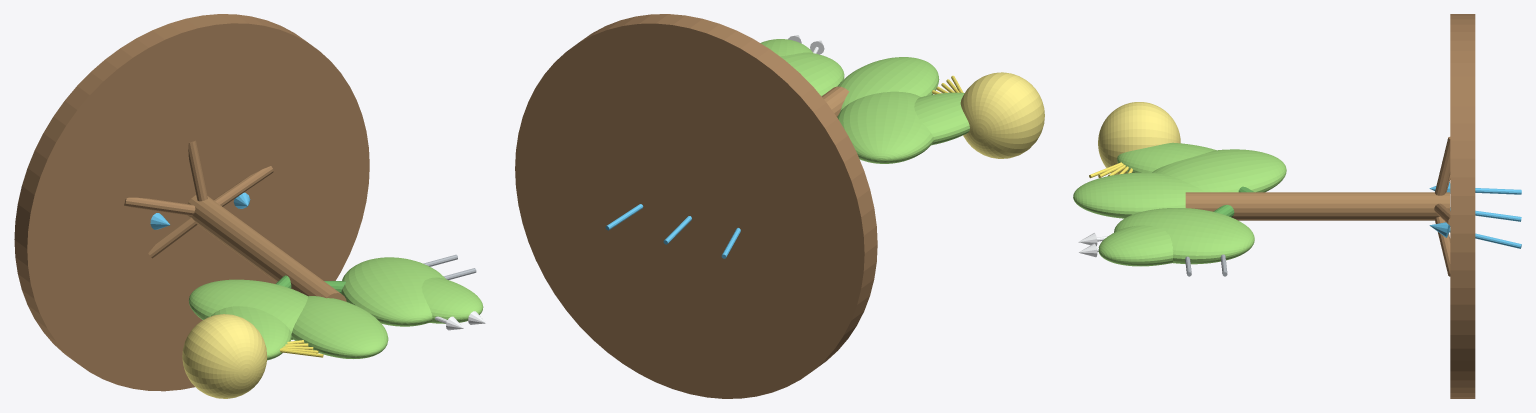
The model's file is photosynthesis_tree_3d.glb.
The picture shows the model from 3 angles, left to right: view 1: azimuth 30°, elevation 25°; view 2: azimuth 150°, elevation 25°; view 3: azimuth 270°, elevation 25°; orthographic projection. The views are drawn at different scales.
Visible parts, largest first — view 1: Soil ground, Sun, Leaf 2, Main trunk, Leaf 4, Leaf 1, Leaf 3, Leaf 0, Root 0, Root 1, Root 4, Root 2; view 2: Soil ground, Sun, Leaf 1, Leaf 4, Leaf 0, Leaf 2, Leaf 3, Main trunk; view 3: Soil ground, Main trunk, Leaf 2, Leaf 4, Leaf 1, Sun, Leaf 3, Leaf 0, Root 4.
Boxes of the visible parts, <box> form: Soil ground: <box>14,14,369,391</box>; Sun: <box>182,314,267,398</box>; Leaf 2: <box>341,257,445,326</box>; Main trunk: <box>187,195,346,301</box>; Leaf 4: <box>291,296,388,358</box>; Leaf 1: <box>188,279,307,339</box>; Leaf 3: <box>421,277,483,323</box>; Leaf 0: <box>211,306,291,360</box>; Root 0: <box>124,197,195,215</box>; Root 1: <box>213,166,273,206</box>; Root 4: <box>188,140,207,201</box>; Root 2: <box>148,217,197,258</box>; Soil ground: <box>515,14,877,398</box>; Sun: <box>960,72,1044,158</box>; Leaf 1: <box>837,91,933,163</box>; Leaf 4: <box>837,57,939,111</box>; Leaf 0: <box>914,92,969,145</box>; Leaf 2: <box>780,52,844,96</box>; Leaf 3: <box>760,39,812,56</box>; Main trunk: <box>821,86,849,116</box>; Soil ground: <box>1450,14,1475,398</box>; Main trunk: <box>1185,192,1449,220</box>; Leaf 2: <box>1114,208,1254,264</box>; Leaf 4: <box>1073,172,1205,218</box>; Leaf 1: <box>1152,149,1286,192</box>; Sun: <box>1098,102,1180,174</box>; Leaf 3: <box>1098,225,1173,266</box>; Leaf 0: <box>1117,142,1216,172</box>; Root 4: <box>1435,137,1450,195</box>.
Bounding box in the file's own units: 5.4 × 5.4 × 6.29.
